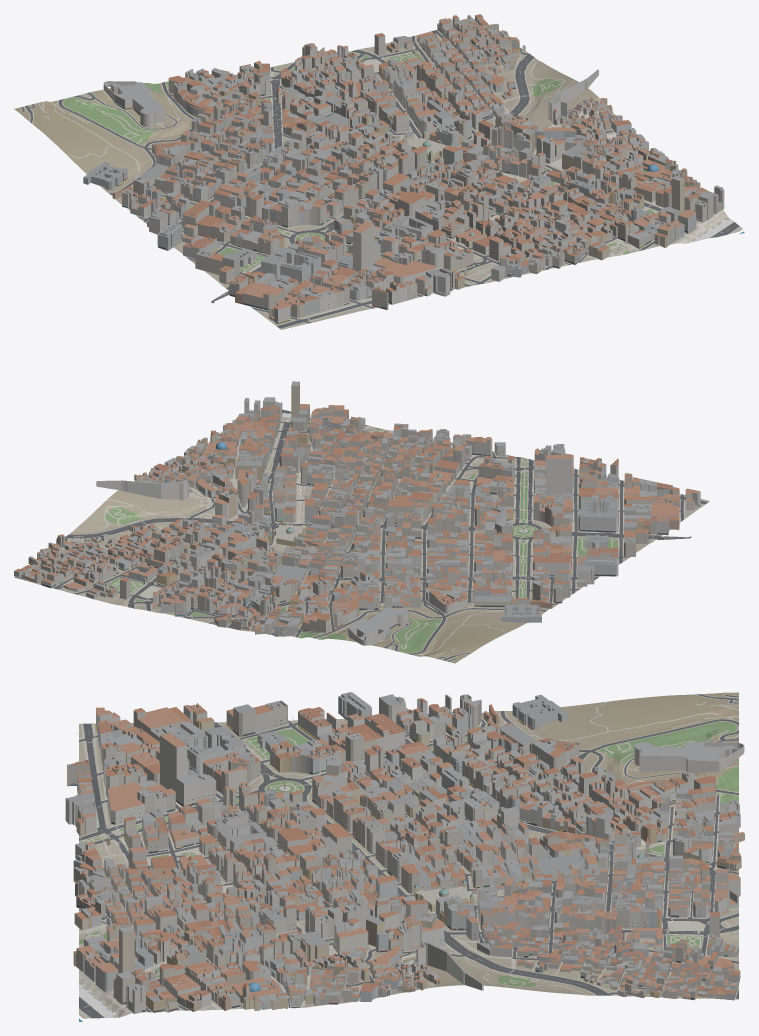
3 renders of one model, top to bottom at view 1: azimuth 30°, elevation 25°; view 2: azimuth 150°, elevation 25°; view 3: azimuth 270°, elevation 25°, orthographic. The views are drawn at different scales.
Parts seen in each view (by area): view 1: Walls, Roofs, Ground, Sidewalk, Road, Park, Detail; view 2: Walls, Roofs, Ground, Sidewalk, Road, Park, Detail, Landmark; view 3: Walls, Roofs, Ground, Sidewalk, Road, Park, Detail, Landmark.
Boxes of the visible parts, <box> form: Walls: <box>83,16,724,323</box>; Roofs: <box>84,14,723,318</box>; Ground: <box>14,30,742,329</box>; Sidewalk: <box>20,20,741,329</box>; Road: <box>21,19,739,328</box>; Park: <box>63,52,658,284</box>; Detail: <box>115,22,701,323</box>; Walls: <box>14,382,700,645</box>; Roofs: <box>14,381,699,640</box>; Ground: <box>30,413,709,663</box>; Sidewalk: <box>15,409,708,661</box>; Road: <box>14,410,708,661</box>; Park: <box>103,428,617,653</box>; Detail: <box>28,414,700,638</box>; Landmark: <box>187,429,527,603</box>; Walls: <box>65,693,744,1013</box>; Roofs: <box>66,692,744,1009</box>; Ground: <box>79,692,738,1018</box>; Sidewalk: <box>79,694,738,1018</box>; Road: <box>79,694,738,1018</box>; Park: <box>79,721,738,990</box>; Detail: <box>70,712,741,1012</box>; Landmark: <box>91,782,649,996</box>.
Size of the model in its own units: 1091 by 126 by 1108.
